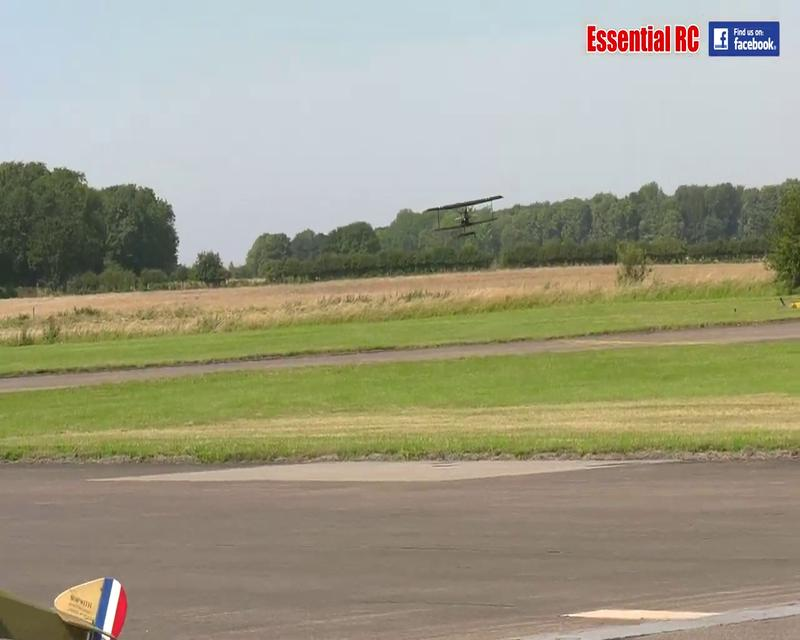UAV: (430, 195, 503, 238)
